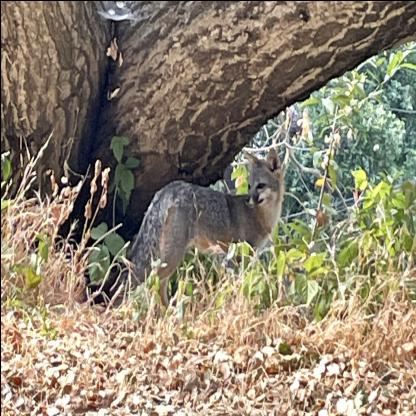zorro: (103, 138, 292, 320)
